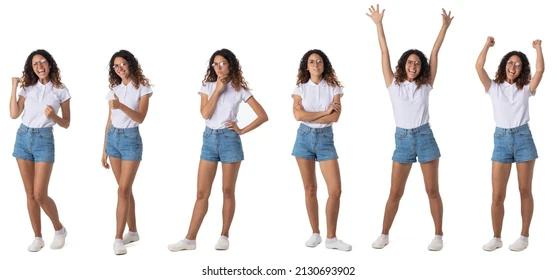Shorts: (390, 122, 442, 165), (290, 122, 340, 161), (491, 125, 539, 163), (12, 122, 56, 163), (199, 126, 245, 164), (105, 123, 143, 162)
short sleeve shirt: (291, 76, 344, 130), (198, 79, 254, 130), (17, 79, 71, 130), (387, 75, 433, 131), (485, 79, 535, 129), (105, 78, 152, 130)
